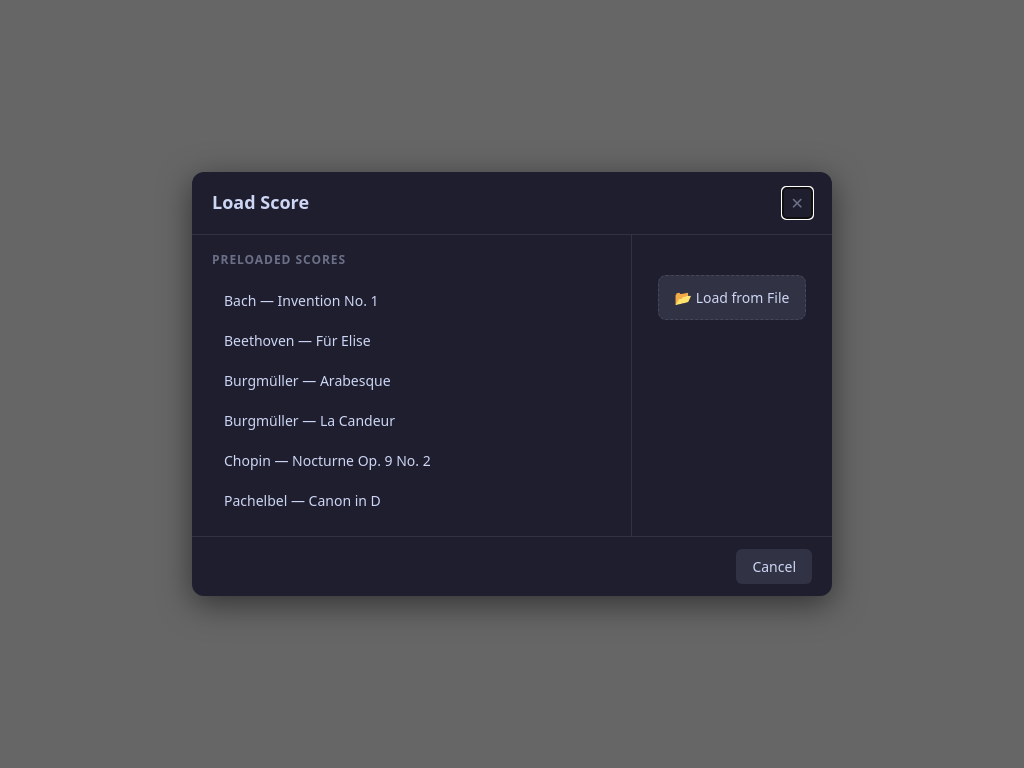
Scenario: LoadScoreDialog — fetch error handling › shows named error message when fetch rejects
Click the button "Bach — Invention No. 1".
click(301, 300)  # box [212,281,611,319]
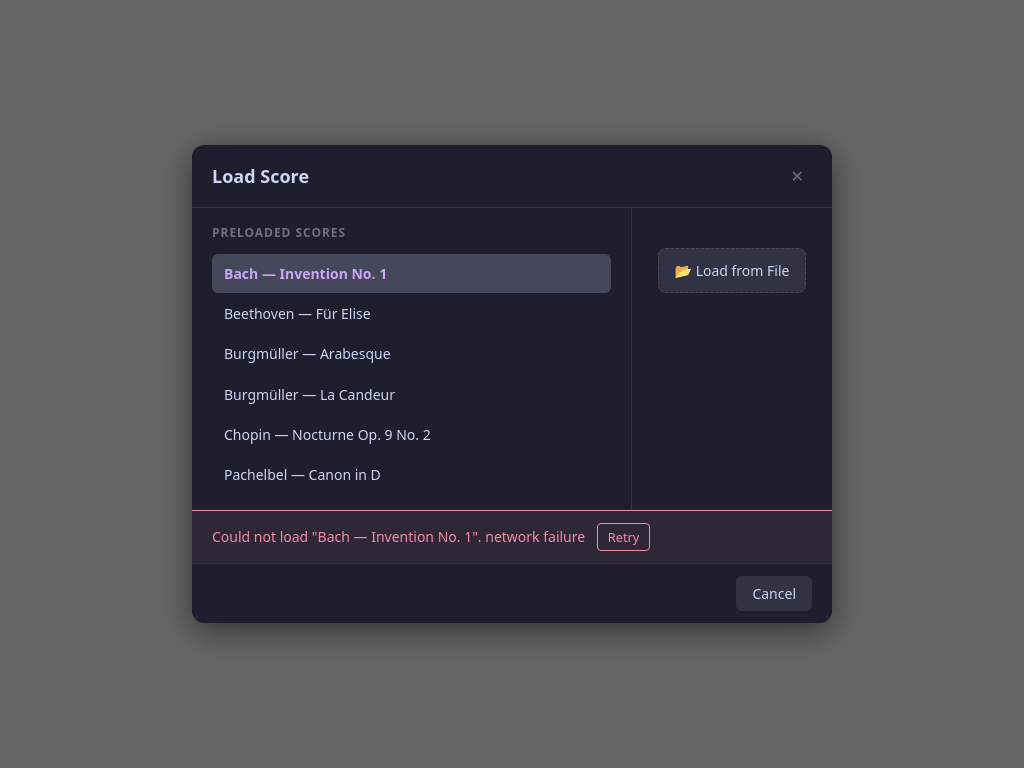
Expected: the message "Could not load \"Bach — Invention No. 1\". network failure Retry" is shown, [192,510,832,563]
Expected: the message shows "Bach", [212,527,585,546]
